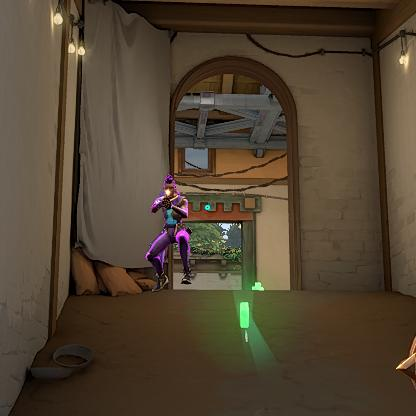enemyBody: (164, 197, 179, 225)
enemyHead: (164, 183, 175, 196)
